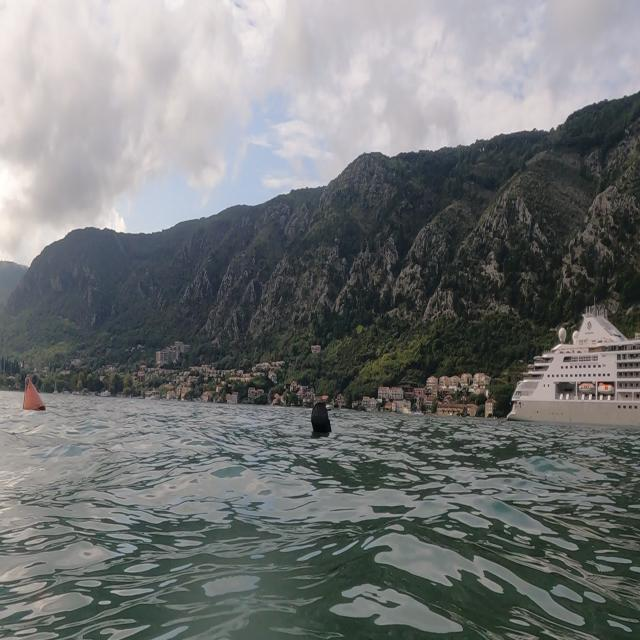boat: (506, 296, 638, 431)
buoy: (17, 366, 51, 418), (305, 394, 339, 444)
